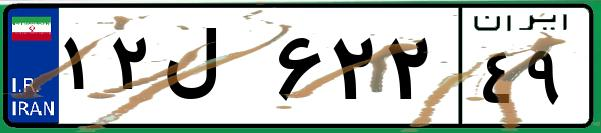1: (57, 26, 110, 100)
2: (385, 28, 445, 110), (330, 28, 385, 110), (110, 28, 158, 98)
4: (475, 38, 525, 113)
6: (270, 28, 330, 110)
9: (525, 38, 570, 115)
ل: (158, 20, 270, 120)
